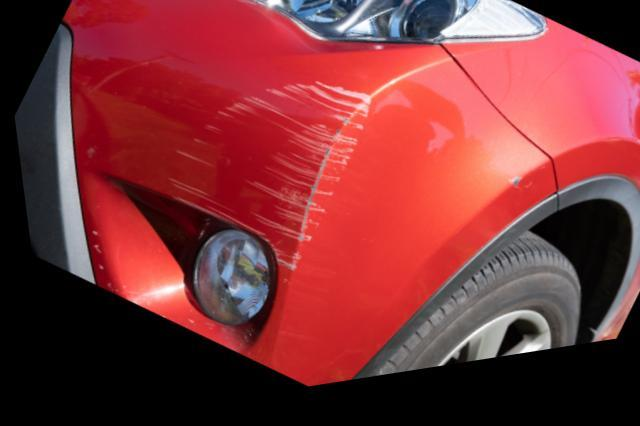scratch: (162, 87, 367, 284)
